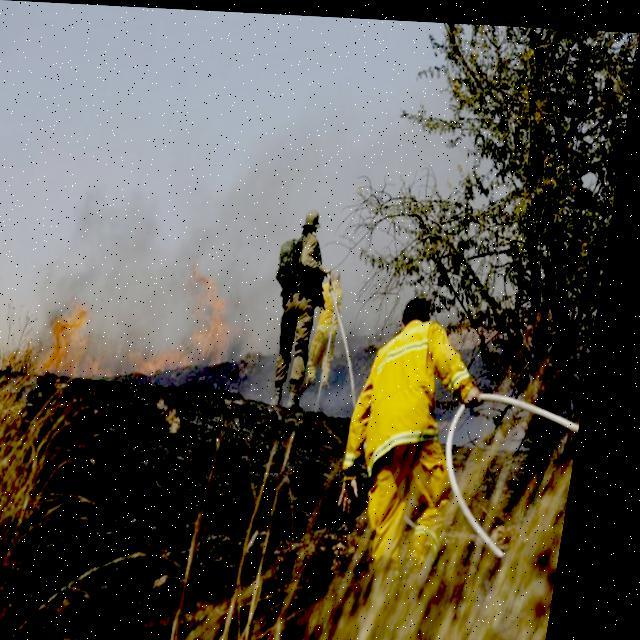Fire: (144, 269, 252, 382), (27, 306, 128, 378)
